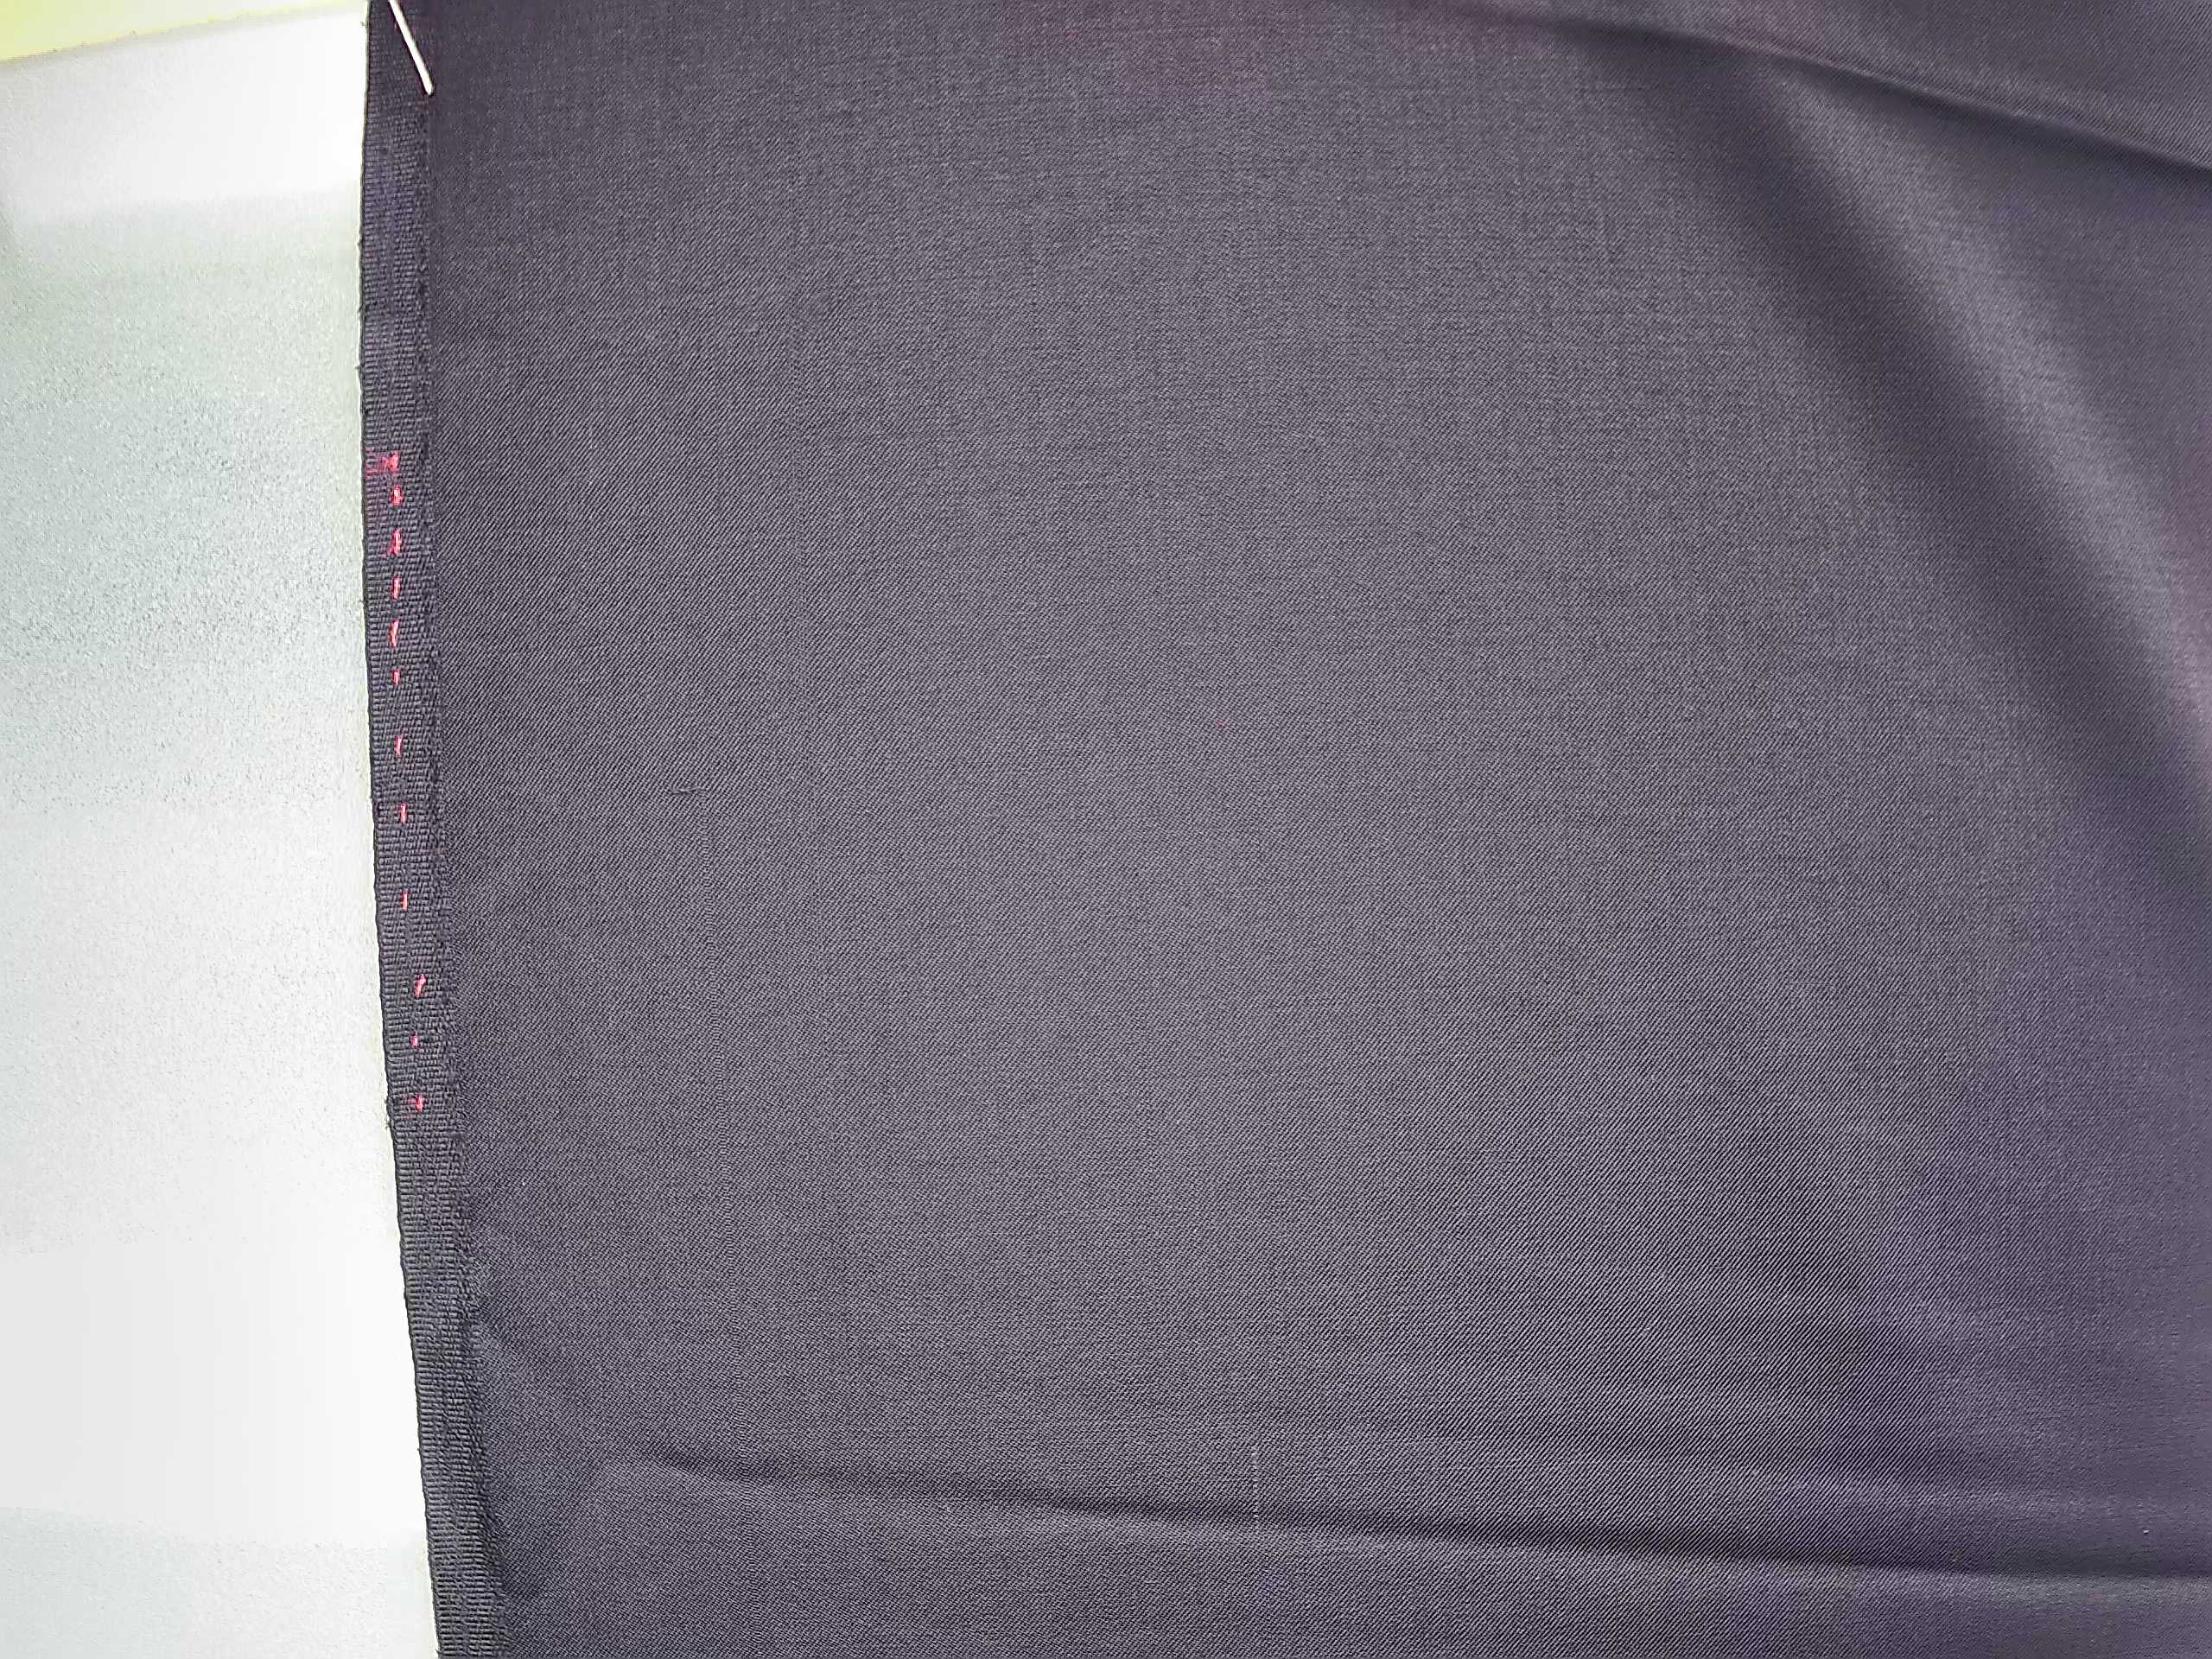hanging-warp: (669, 751, 765, 1356)
